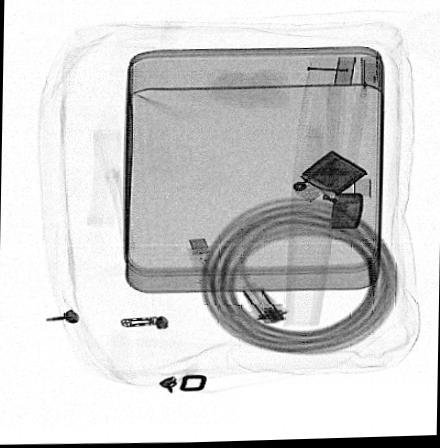Lighter: (290, 152, 368, 232)
